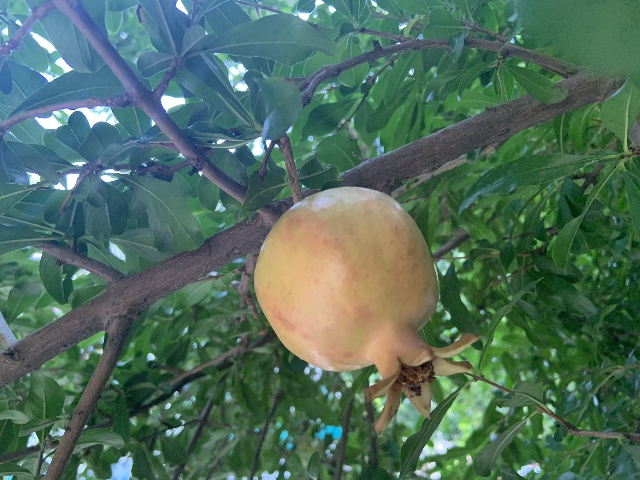mid-growth: (254, 185, 482, 434)
